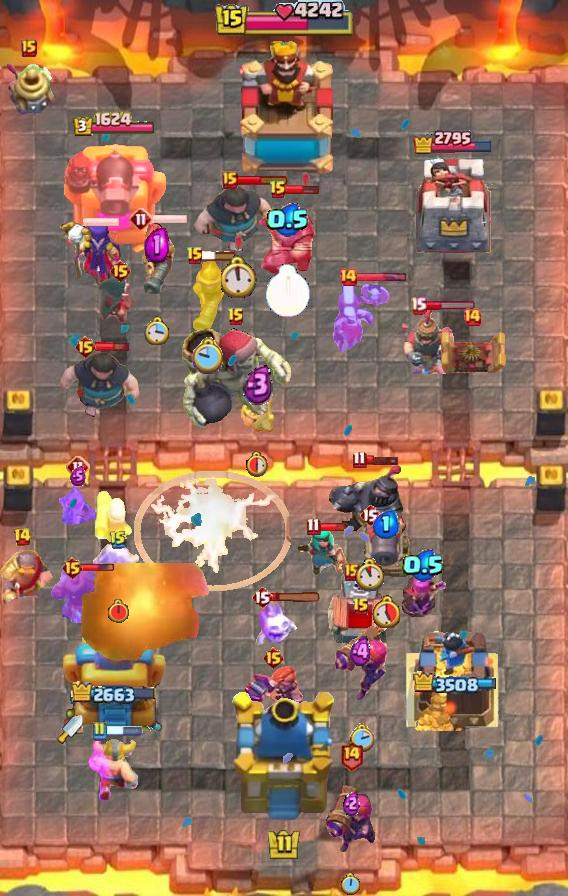archer-evolution: (397, 568, 449, 626), (57, 481, 99, 529)
bandit: (94, 274, 146, 326)
bar: (236, 174, 289, 186), (270, 592, 322, 603), (355, 272, 407, 283), (425, 300, 476, 311), (95, 340, 130, 353), (83, 216, 120, 228), (151, 213, 188, 225), (364, 454, 400, 466), (202, 250, 238, 262), (285, 184, 320, 196), (105, 726, 143, 736), (81, 563, 115, 573), (318, 522, 350, 532)
bar-level: (339, 740, 364, 771), (66, 455, 90, 479), (129, 207, 153, 231), (262, 646, 285, 670), (61, 556, 84, 580), (74, 335, 97, 359), (109, 259, 132, 283), (251, 585, 273, 609), (359, 503, 381, 527), (462, 307, 482, 327), (338, 267, 358, 287), (13, 527, 32, 547), (352, 597, 370, 617), (109, 530, 127, 550), (227, 307, 245, 327), (186, 246, 204, 266), (269, 180, 287, 200), (410, 296, 427, 315), (91, 721, 107, 741), (344, 563, 360, 581), (222, 171, 238, 189), (21, 39, 37, 57), (306, 517, 321, 536), (352, 450, 367, 469)
cannoneer-tower: (60, 138, 168, 256)
clock: (265, 264, 311, 318), (221, 255, 258, 298), (193, 337, 225, 374), (353, 558, 386, 592), (372, 595, 400, 628), (144, 316, 170, 345), (349, 723, 374, 752), (246, 450, 270, 477), (107, 599, 130, 624), (341, 873, 361, 896)
dagger-duchess-tower: (62, 615, 167, 731)
elite-barbarian: (88, 736, 139, 802)
elixir: (266, 203, 310, 237), (402, 549, 445, 582), (243, 364, 274, 405), (145, 228, 169, 262), (373, 510, 400, 539), (349, 636, 373, 668), (343, 790, 360, 816), (70, 466, 86, 486)
firecracker: (93, 488, 135, 546)
firecracker-evolution: (331, 618, 391, 704), (324, 768, 378, 856)
heal-spirit: (241, 389, 275, 433)
ice-spirit-evolution: (255, 598, 297, 648), (93, 541, 143, 579)
king-tower: (228, 41, 340, 181), (227, 692, 341, 826)
king-tower-bar: (213, 0, 355, 40)
knight: (0, 549, 54, 605)
musketeer: (136, 218, 178, 298), (188, 256, 230, 330)
night-witch: (330, 281, 392, 353)
queen-tower: (405, 621, 501, 731), (413, 157, 493, 256)
rascal-girl: (296, 527, 350, 579)
royal-recruit: (400, 302, 456, 374)
tesla: (437, 328, 507, 378)
tower-bar: (72, 111, 156, 138), (71, 681, 158, 707), (412, 128, 494, 154), (411, 671, 496, 695)
valkyrie-evolution: (241, 665, 305, 721)
witch: (59, 218, 123, 284)
zappy: (2, 59, 56, 117)
